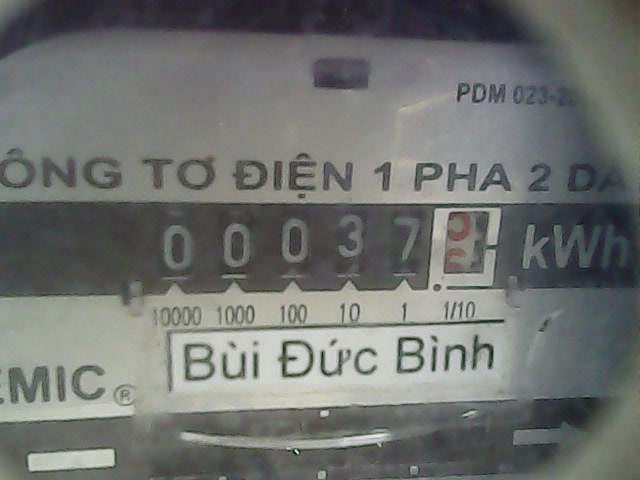phy_plate: (147, 199, 511, 296)
